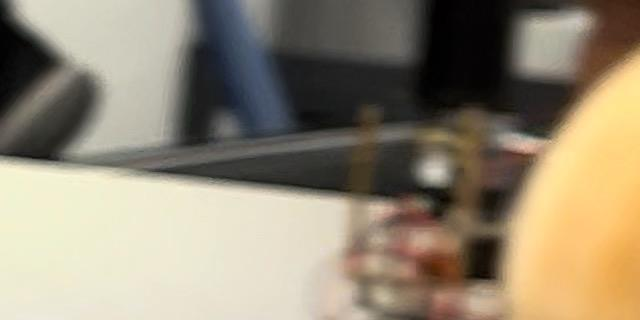burger: (415, 0, 640, 320)
